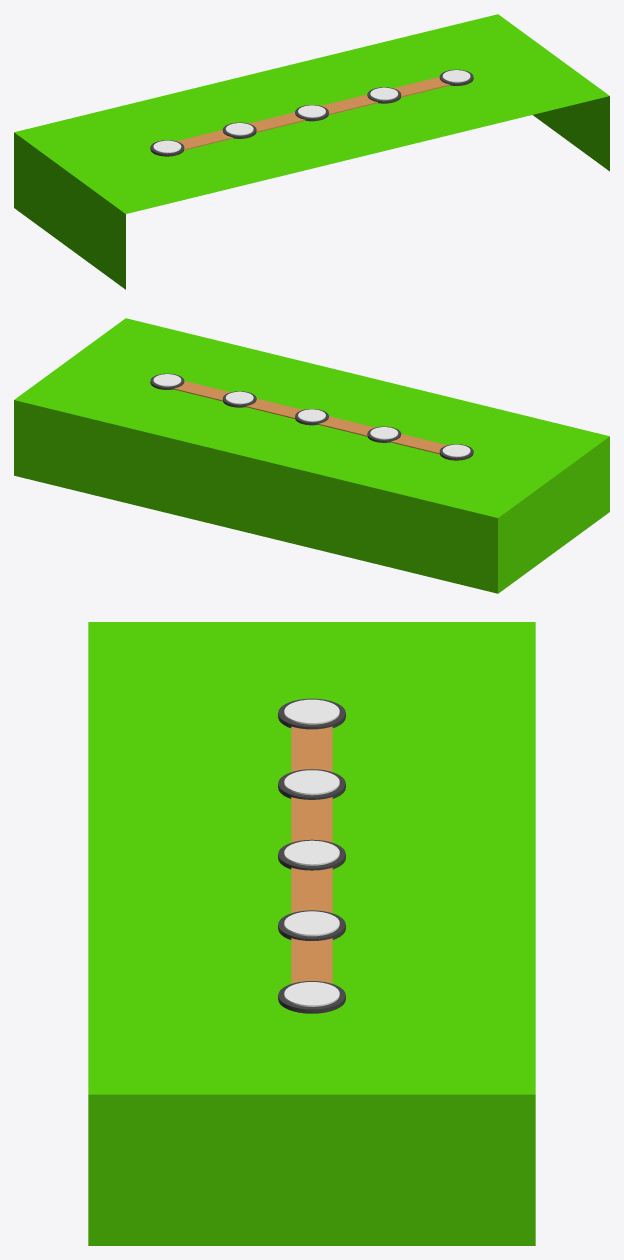
The model's file is stageSelect.obj.
3 renders of one model, top to bottom at view 1: azimuth 30°, elevation 25°; view 2: azimuth 150°, elevation 25°; view 3: azimuth 270°, elevation 25°, orthographic. The views are drawn at different scales.
Visible parts, largest first — view 1: 立方体, 立方体.007; view 2: 立方体, 立方体.007; view 3: 立方体, 立方体.007, 立方体.003, 立方体.001, 立方体.004, 立方体.005, 立方体.002a.
Boxes of the visible parts, left/top/right/bottom form: 立方体: left=14, top=14, right=609, bottom=289; 立方体.007: left=150, top=69, right=473, bottom=156; 立方体: left=14, top=318, right=609, bottom=593; 立方体.007: left=150, top=373, right=473, bottom=460; 立方体: left=88, top=622, right=535, bottom=1245; 立方体.007: left=278, top=698, right=345, bottom=1013; 立方体.003: left=284, top=911, right=339, bottom=936; 立方体.001: left=284, top=699, right=339, bottom=724; 立方体.004: left=284, top=840, right=339, bottom=865; 立方体.005: left=284, top=770, right=339, bottom=795; 立方体.002a: left=284, top=982, right=339, bottom=1006.
Size of the model in its own units: 100 by 15.58 by 40.18.
1 material, 1 textured.
